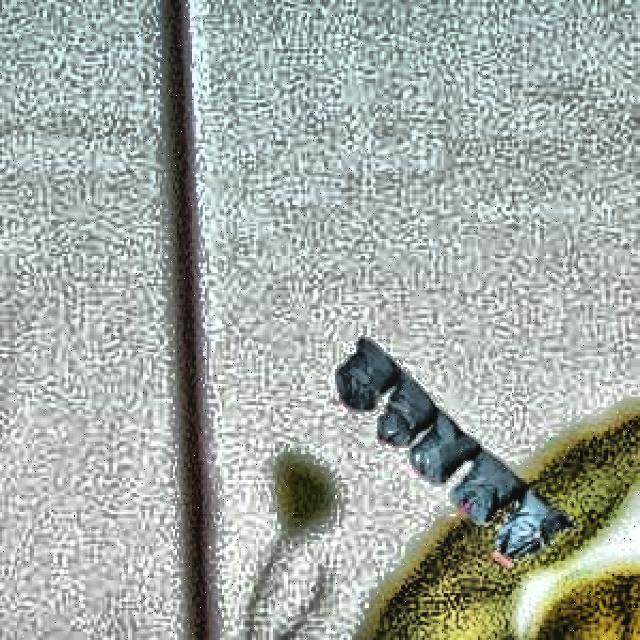Trashbag: (488, 491, 581, 556), (330, 336, 400, 407), (451, 450, 524, 518), (411, 414, 482, 478), (372, 378, 434, 448)
